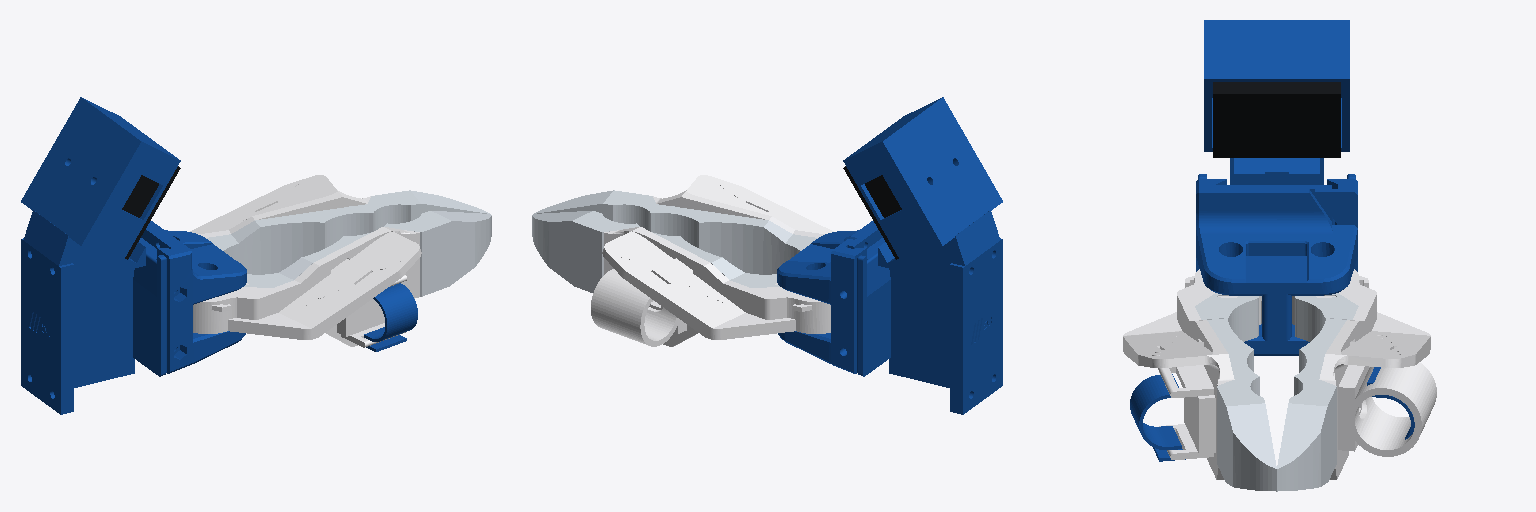
URDF robot description (pg_chopstick_data_d405):
<?xml version="1.0"?>
<!-- PG Chopstick, generated by chopstick/cad/urdf.py. Units: m, rad. -->
<robot name="pg_chopstick_data_d405">
  <material name="pg_blue"><color rgba="0.12 0.37 0.68 1"/></material>
  <material name="pg_white"><color rgba="0.96 0.96 0.97 1"/></material>
  <material name="tpu"><color rgba="0.87 0.9 0.93 1"/></material>
  <material name="camera"><color rgba="0.11 0.12 0.13 1"/></material>
  <link name="chopstick_base">
    <visual name="chopstick_base_dc"><origin xyz="0 0 0" rpy="0 0 0"/><geometry><mesh filename="meshes/chopstick_base_dc.stl" scale="0.001 0.001 0.001"/></geometry><material name="pg_blue"/></visual>
    <collision name="chopstick_base_dc"><origin xyz="0 0 0" rpy="0 0 0"/><geometry><mesh filename="meshes/chopstick_base_dc.stl" scale="0.001 0.001 0.001"/></geometry></collision>
    <visual name="chopstick_clip_dc"><origin xyz="0 0 0" rpy="0 0 0"/><geometry><mesh filename="meshes/chopstick_clip_dc.stl" scale="0.001 0.001 0.001"/></geometry><material name="pg_blue"/></visual>
    <collision name="chopstick_clip_dc"><origin xyz="0 0 0" rpy="0 0 0"/><geometry><mesh filename="meshes/chopstick_clip_dc.stl" scale="0.001 0.001 0.001"/></geometry></collision>
    <visual name="d405_frame"><origin xyz="0 0 0" rpy="0 0 0"/><geometry><mesh filename="meshes/d405_frame.stl" scale="0.001 0.001 0.001"/></geometry><material name="pg_blue"/></visual>
    <collision name="d405_frame"><origin xyz="0 0 0" rpy="0 0 0"/><geometry><mesh filename="meshes/d405_frame.stl" scale="0.001 0.001 0.001"/></geometry></collision>
    <visual name="d405_envelope"><origin xyz="0 0 0" rpy="0 0 0"/><geometry><mesh filename="meshes/d405_envelope.stl" scale="0.001 0.001 0.001"/></geometry><material name="camera"/></visual>
    <collision name="d405_envelope"><origin xyz="0 0 0" rpy="0 0 0"/><geometry><mesh filename="meshes/d405_envelope.stl" scale="0.001 0.001 0.001"/></geometry></collision>
    <inertial><origin xyz="0.0338366 -4.51086e-05 0.0306038" rpy="0 0 0"/><mass value="0.13233"/><inertia ixx="0.0001322" ixy="1.148e-07" ixz="1.642e-05" iyy="0.0001535" iyz="-1.273e-07" izz="6.344e-05"/></inertial>
  </link>
  <link name="chopstick_jaw_left">
    <visual name="jaw_left_dc"><origin xyz="0 0 0" rpy="0 0 0"/><geometry><mesh filename="meshes/jaw_left_dc_jawframe.stl" scale="0.001 0.001 0.001"/></geometry><material name="pg_white"/></visual>
    <collision name="jaw_left_dc"><origin xyz="0 0 0" rpy="0 0 0"/><geometry><mesh filename="meshes/jaw_left_dc_jawframe.stl" scale="0.001 0.001 0.001"/></geometry></collision>
    <visual name="tip_tpu_left"><origin xyz="0 0 0" rpy="0 0 0"/><geometry><mesh filename="meshes/tip_tpu_left_jawframe.stl" scale="0.001 0.001 0.001"/></geometry><material name="tpu"/></visual>
    <collision name="tip_tpu_left"><origin xyz="0 0 0" rpy="0 0 0"/><geometry><mesh filename="meshes/tip_tpu_left_jawframe.stl" scale="0.001 0.001 0.001"/></geometry></collision>
    <visual name="sleeve_strap_left"><origin xyz="0 0 0" rpy="0 0 0"/><geometry><mesh filename="meshes/sleeve_strap_left_jawframe.stl" scale="0.001 0.001 0.001"/></geometry><material name="pg_blue"/></visual>
    <collision name="sleeve_strap_left"><origin xyz="0 0 0" rpy="0 0 0"/><geometry><mesh filename="meshes/sleeve_strap_left_jawframe.stl" scale="0.001 0.001 0.001"/></geometry></collision>
    <inertial><origin xyz="0.0651854 0.00374824 -0.00374808" rpy="0 0 0"/><mass value="0.054642"/><inertia ixx="9.108e-06" ixy="7.191e-06" ixz="1.243e-06" iyy="6.957e-05" iyz="1.893e-07" izz="7.157e-05"/></inertial>
  </link>
  <link name="chopstick_tip_left"/>
  <link name="chopstick_jaw_right">
    <visual name="jaw_right_dc"><origin xyz="0 0 0" rpy="0 0 0"/><geometry><mesh filename="meshes/jaw_right_dc_jawframe.stl" scale="0.001 0.001 0.001"/></geometry><material name="pg_white"/></visual>
    <collision name="jaw_right_dc"><origin xyz="0 0 0" rpy="0 0 0"/><geometry><mesh filename="meshes/jaw_right_dc_jawframe.stl" scale="0.001 0.001 0.001"/></geometry></collision>
    <visual name="tip_tpu_right"><origin xyz="0 0 0" rpy="0 0 0"/><geometry><mesh filename="meshes/tip_tpu_right_jawframe.stl" scale="0.001 0.001 0.001"/></geometry><material name="tpu"/></visual>
    <collision name="tip_tpu_right"><origin xyz="0 0 0" rpy="0 0 0"/><geometry><mesh filename="meshes/tip_tpu_right_jawframe.stl" scale="0.001 0.001 0.001"/></geometry></collision>
    <visual name="sleeve_strap_right"><origin xyz="0 0 0" rpy="0 0 0"/><geometry><mesh filename="meshes/sleeve_strap_right_jawframe.stl" scale="0.001 0.001 0.001"/></geometry><material name="pg_blue"/></visual>
    <collision name="sleeve_strap_right"><origin xyz="0 0 0" rpy="0 0 0"/><geometry><mesh filename="meshes/sleeve_strap_right_jawframe.stl" scale="0.001 0.001 0.001"/></geometry></collision>
    <inertial><origin xyz="0.0651715 -0.00372102 -0.00404317" rpy="0 0 0"/><mass value="0.054576"/><inertia ixx="9.295e-06" ixy="-7.161e-06" ixz="1.284e-06" iyy="6.991e-05" iyz="-4.596e-07" izz="7.166e-05"/></inertial>
  </link>
  <link name="chopstick_tip_right"/>
  <link name="chopstick_camera"/>
  <link name="chopstick_tcp"/>
  <joint name="chopstick_jaw" type="revolute">
    <parent link="chopstick_base"/><child link="chopstick_jaw_left"/>
    <origin xyz="0.06733 0.015 0" rpy="0 0 0"/><axis xyz="0 0 1"/>
    <limit lower="0.00000" upper="1.25664" effort="4" velocity="6"/>
  </joint>
  <joint name="chopstick_tip_left_joint" type="fixed"><parent link="chopstick_jaw_left"/><child link="chopstick_tip_left"/><origin xyz="0.137417 -0.015085 -0.003671" rpy="0 0 0"/></joint>
  <joint name="chopstick_jaw_right" type="revolute">
    <parent link="chopstick_base"/><child link="chopstick_jaw_right"/>
    <origin xyz="0.06733 -0.015 0" rpy="0 0 0"/><axis xyz="0 0 1"/>
    <limit lower="-1.25664" upper="0.00000" effort="4" velocity="6"/>
    <mimic joint="chopstick_jaw" multiplier="-1" offset="0"/>
  </joint>
  <joint name="chopstick_tip_right_joint" type="fixed"><parent link="chopstick_jaw_right"/><child link="chopstick_tip_right"/><origin xyz="0.137417 0.015085 -0.003671" rpy="0 0 0"/></joint>
  <joint name="chopstick_camera_joint" type="fixed"><parent link="chopstick_base"/><child link="chopstick_camera"/><origin xyz="0.039420249 0 0.047403871" rpy="0 0.610864816 0"/></joint>
  <joint name="chopstick_tcp_joint" type="fixed"><parent link="chopstick_base"/><child link="chopstick_tcp"/><origin xyz="0.204747 0 -0.003671" rpy="0 0 0"/></joint>
</robot>

--- What the picture shows (computed from the rendered views, not written in the file) ---
Views: 3 orthographic renders of the robot side by side, from view 1: azimuth 30°, elevation 25°; view 2: azimuth 150°, elevation 25°; view 3: azimuth 270°, elevation 25°.
Model pg_chopstick_data_d405 with 7 links and 6 joints (2 revolute, 4 fixed), rooted at chopstick_base, posed all joints at 0.
Visible links, largest first — view 1: chopstick_base, chopstick_jaw_right, chopstick_jaw_left; view 2: chopstick_base, chopstick_jaw_left, chopstick_jaw_right; view 3: chopstick_base, chopstick_jaw_left, chopstick_jaw_right.
Link boxes in pixels (box(x1,y1,x2,y2)): chopstick_base: box(21, 97, 246, 414); chopstick_jaw_right: box(193, 211, 491, 351); chopstick_jaw_left: box(190, 175, 489, 274); chopstick_base: box(777, 97, 1002, 414); chopstick_jaw_left: box(532, 211, 830, 346); chopstick_jaw_right: box(534, 175, 833, 274); chopstick_base: box(1196, 20, 1357, 355); chopstick_jaw_left: box(1277, 269, 1436, 491); chopstick_jaw_right: box(1123, 269, 1276, 491).
Bounding box of the posed robot: 0.2047 × 0.1029 × 0.1149 m (x, y, z).
Meshes: 10 distinct files referenced, 10 mesh visuals loaded (10 binary STL).
